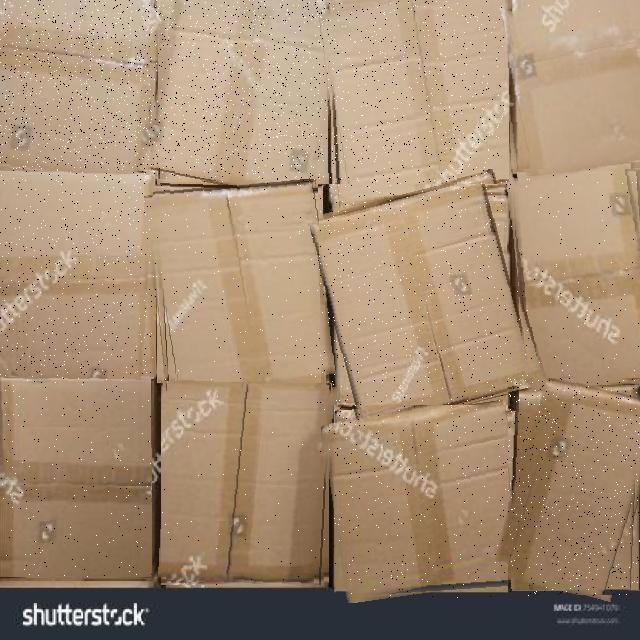BoxFace: (318, 184, 524, 421), (329, 405, 523, 598), (324, 0, 509, 202), (152, 179, 328, 387), (149, 0, 333, 191), (161, 381, 331, 585), (0, 170, 155, 380), (0, 377, 151, 578), (508, 378, 640, 596), (511, 169, 640, 388), (0, 0, 158, 175), (505, 0, 640, 178)
